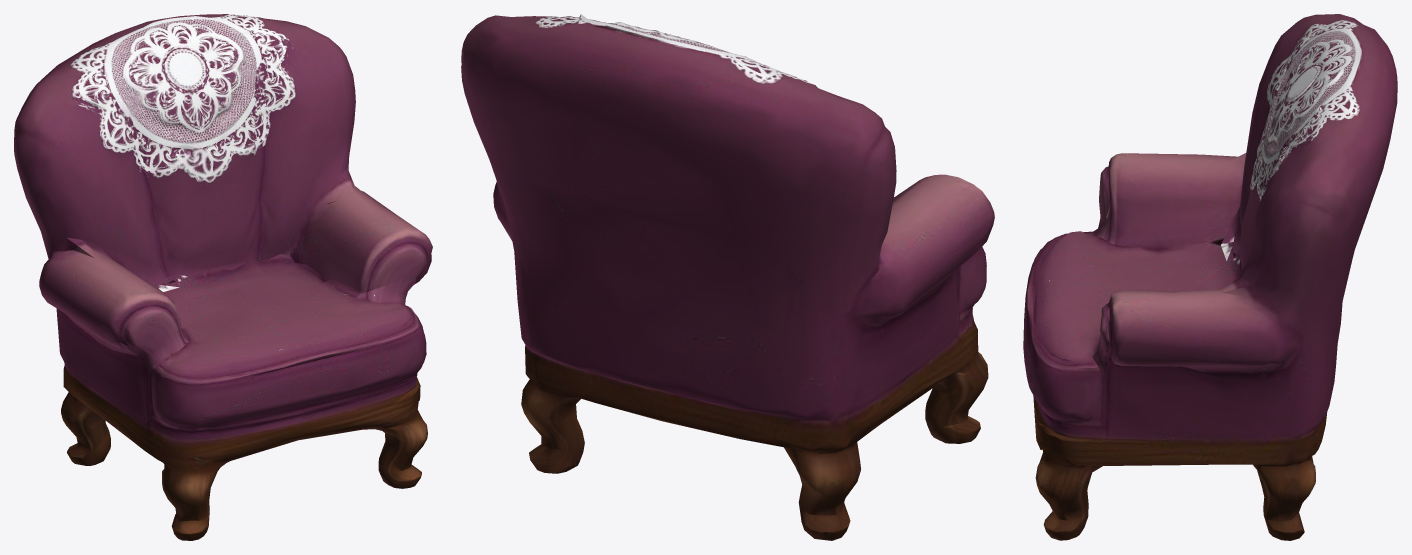
Rendered from armchair.glb.
The picture shows the model from 3 angles, left to right: view 1: azimuth 30°, elevation 25°; view 2: azimuth 150°, elevation 25°; view 3: azimuth 270°, elevation 25°; orthographic projection. The views are drawn at different scales.
Size of the model in its own units: 1.69 by 1.9 by 1.51.
1 material, 1 textured.
